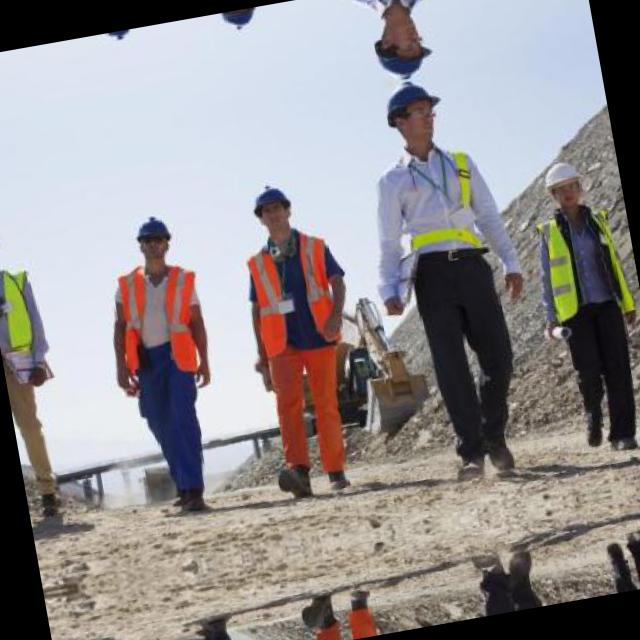helmet: (370, 74, 450, 160), (358, 1, 438, 87), (245, 174, 300, 244), (125, 208, 177, 270), (536, 154, 590, 212), (214, 6, 264, 40), (93, 28, 139, 50)
